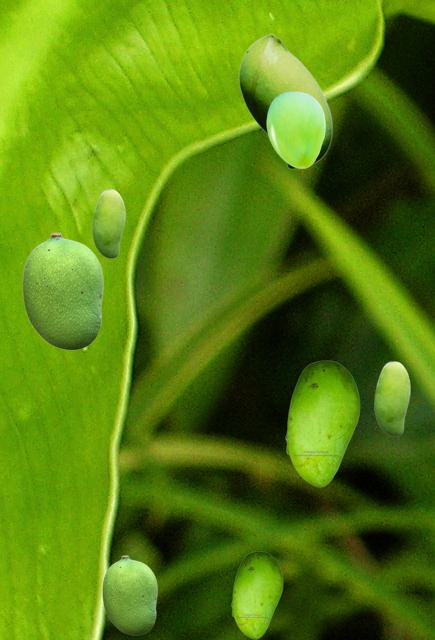green_mango: (238, 33, 331, 168), (22, 232, 102, 349), (285, 360, 359, 486), (231, 551, 282, 638), (266, 91, 324, 167), (102, 555, 156, 634), (374, 361, 409, 435), (92, 189, 124, 257)
